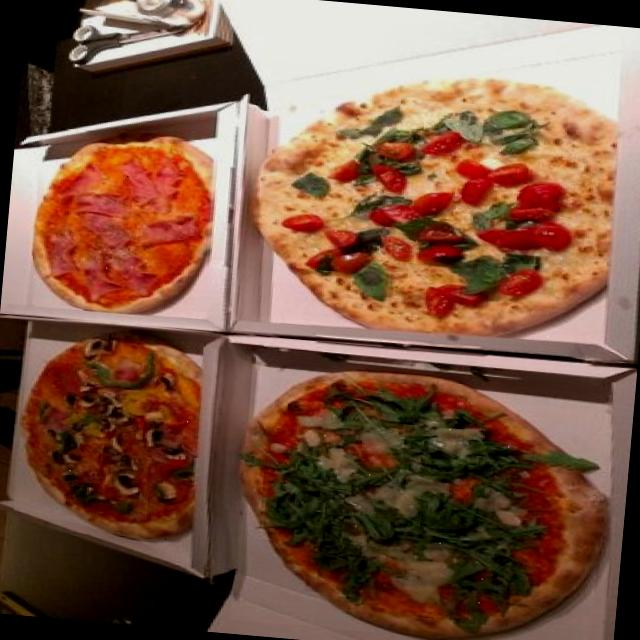Bell Pepper: (78, 344, 160, 391), (64, 480, 139, 520), (63, 408, 109, 440), (163, 454, 199, 484)
basil: (315, 381, 467, 452), (261, 452, 348, 545), (448, 518, 545, 596), (344, 502, 464, 551), (456, 436, 600, 472), (402, 447, 532, 483), (306, 539, 382, 596), (419, 490, 496, 536), (393, 216, 479, 253), (450, 574, 511, 626), (481, 106, 543, 156), (337, 455, 407, 494), (342, 188, 412, 220), (351, 100, 406, 140), (456, 253, 508, 295), (350, 259, 392, 302), (352, 148, 424, 170), (422, 113, 484, 138), (346, 222, 394, 254), (471, 202, 516, 234), (497, 246, 546, 272), (375, 126, 435, 147), (287, 169, 329, 196), (310, 251, 338, 277)
mushrooms: (72, 384, 135, 423), (141, 419, 192, 460), (102, 426, 147, 464), (108, 464, 148, 500), (53, 444, 81, 480), (155, 366, 183, 394)
pizza: (245, 371, 602, 637), (260, 77, 616, 334), (21, 334, 201, 535), (33, 137, 212, 311)
tomato: (509, 176, 564, 224), (450, 156, 496, 206), (296, 242, 372, 272), (422, 278, 489, 306), (403, 184, 457, 218), (478, 223, 544, 250), (496, 266, 546, 300), (419, 279, 460, 318), (484, 159, 532, 192), (270, 206, 326, 233), (364, 200, 419, 227), (529, 220, 574, 253), (419, 128, 468, 158), (366, 161, 408, 191), (326, 154, 366, 183), (370, 134, 420, 157), (379, 230, 416, 260), (320, 226, 360, 250), (416, 241, 464, 261), (418, 223, 462, 242)
